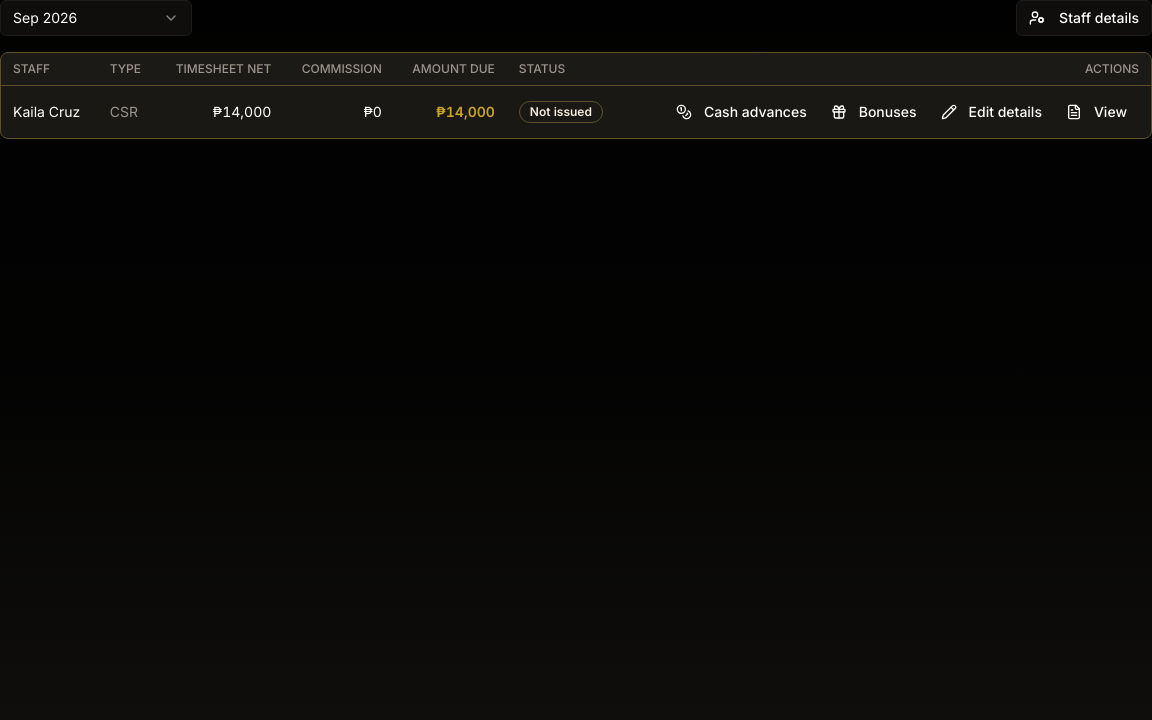
Payslips tab — proof not on file + cash bond returned › Final pay shows "Cash bond returned"; the typed amount is added and sent
Later steps or results of the test are not shown.
Click the button "View": (1096, 112) [1054, 94, 1139, 130]
(page scrolled)
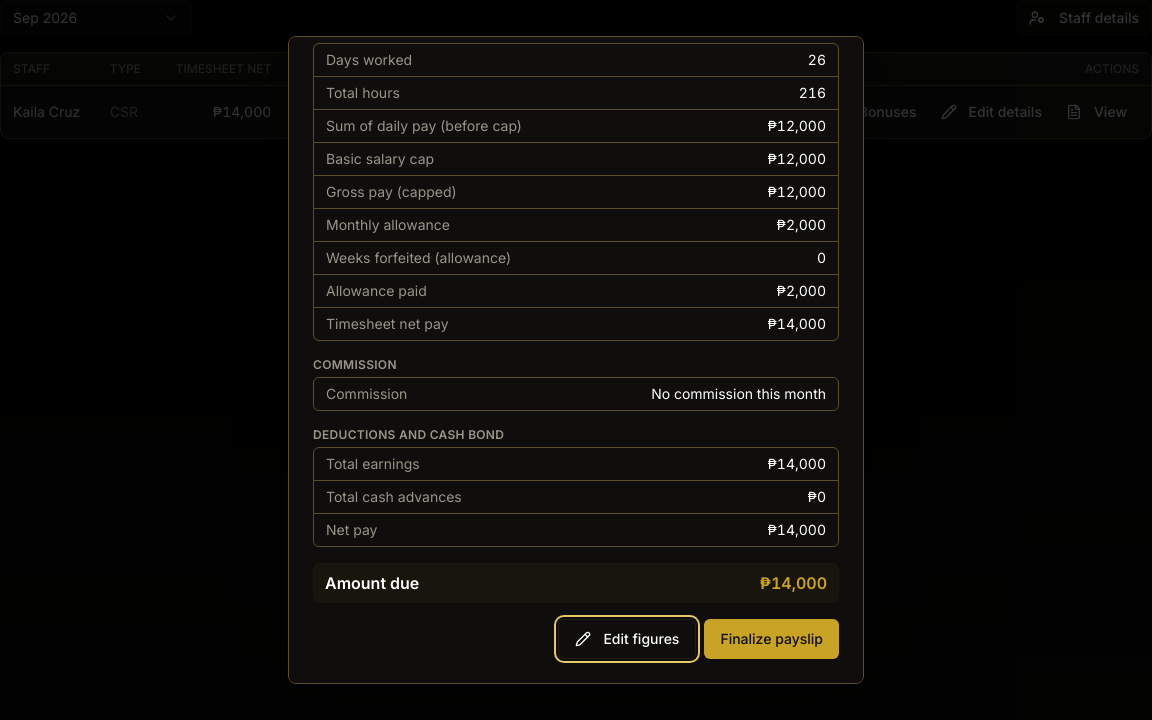
Click the button with test id "payslip-edit-figures": (627, 639) [558, 619, 696, 659]
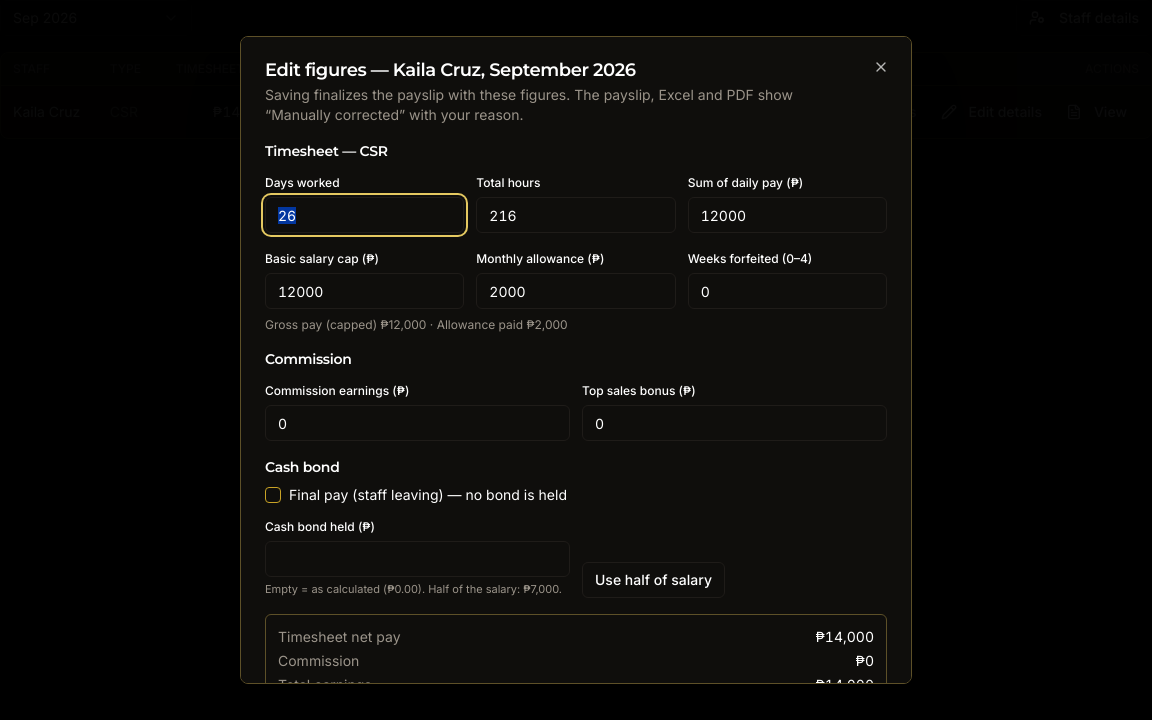
Click the checkbox with test id "ef-final-pay": (273, 495) [265, 487, 281, 503]
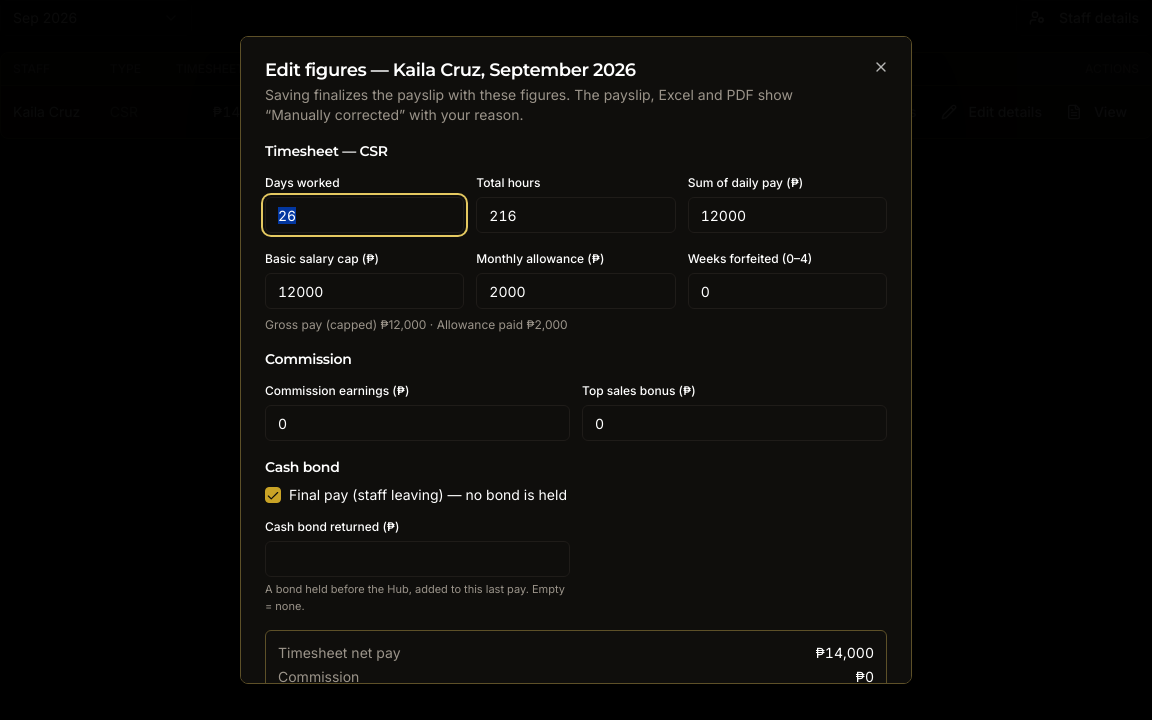
Expected: the element with test id "ef-bond-returned-field" is shown, [265, 519, 570, 612]
